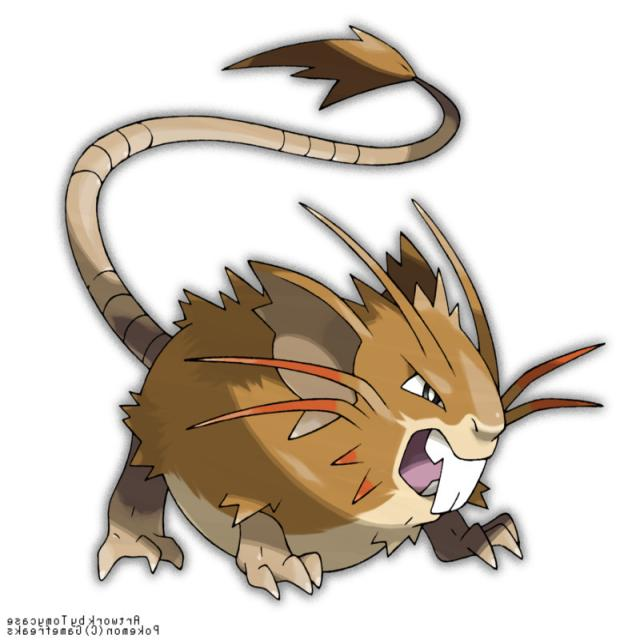Raticate: (67, 198, 556, 591)
